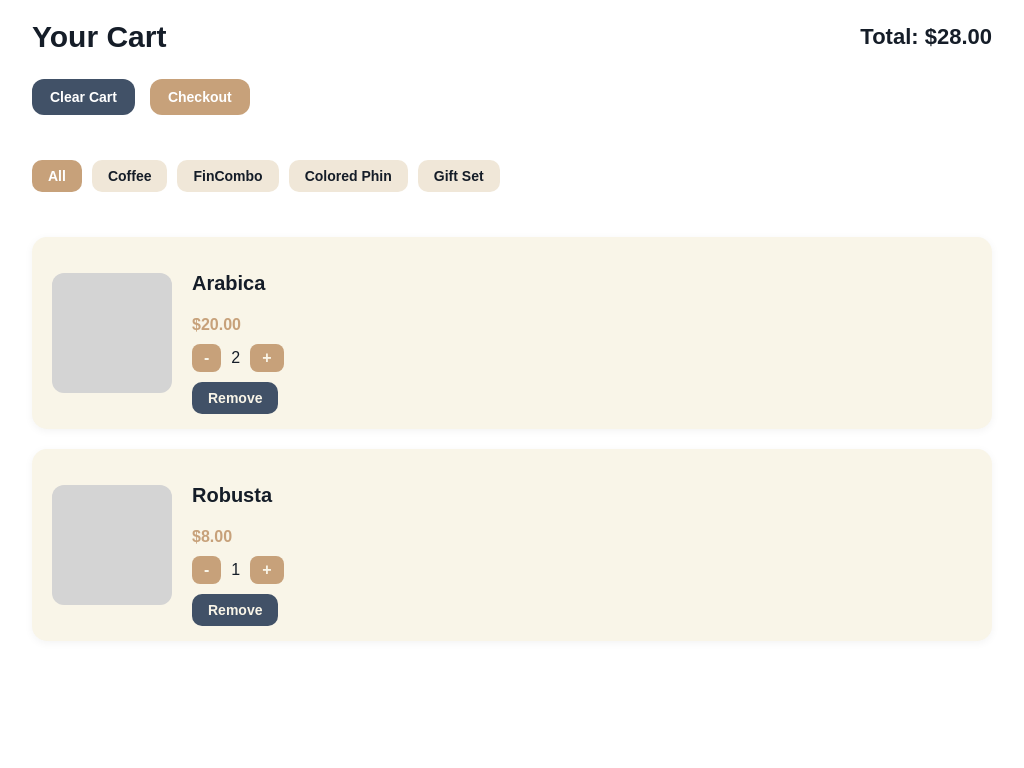
Test case: CartPage component › can filter items by category
What coordinates should you click on to do the following:
click the button "Coffee"
I would click on:
 (130, 176)
Its box is [92, 160, 168, 192].
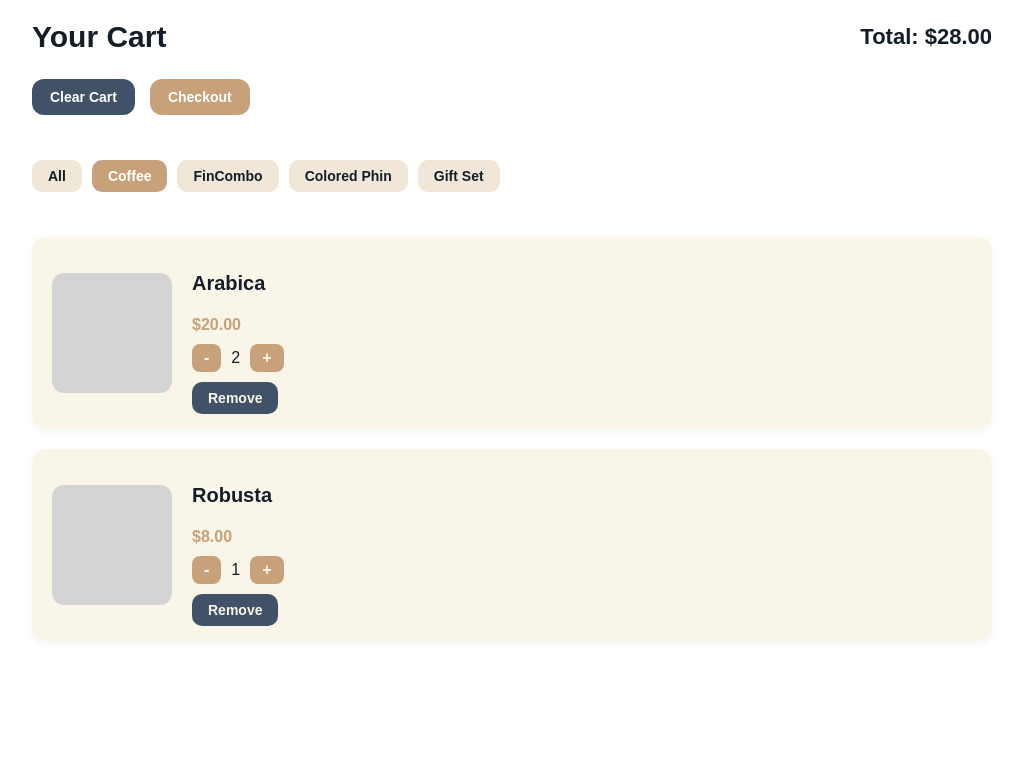
Expected: the text "Arabica" is shown, [192, 272, 265, 294]
What coordinates should you click on to do the following:
click the button "Gift Set"
I would click on:
 (459, 176)
Its box is [418, 160, 500, 192].
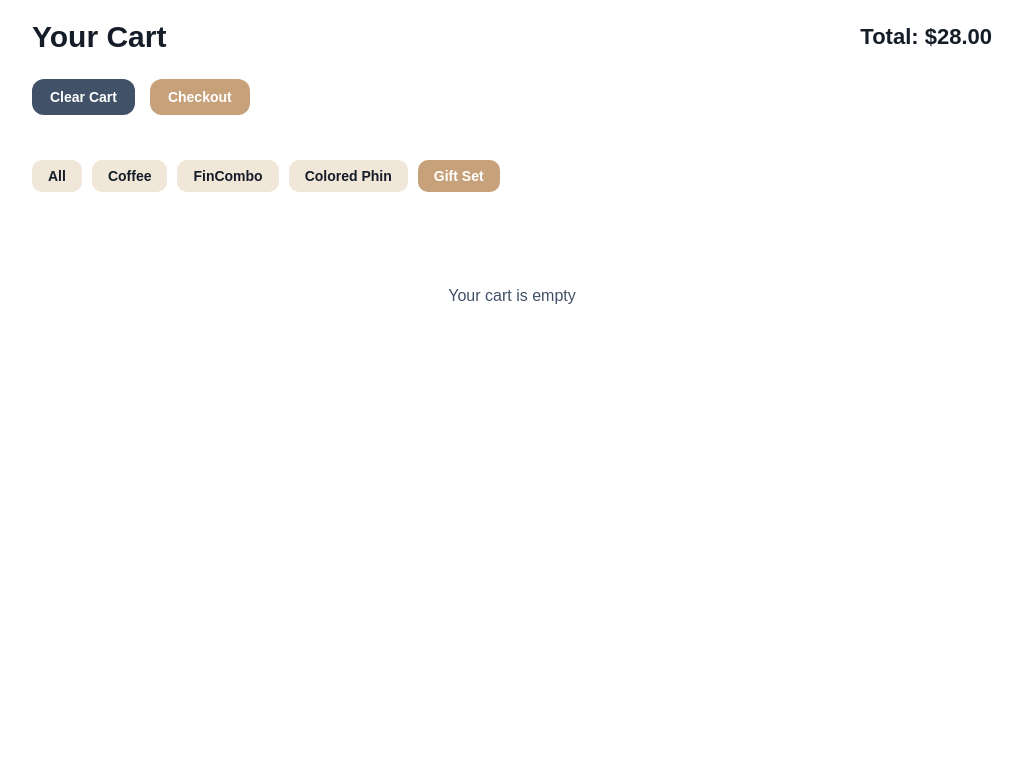
Expected: the text "Arabica" is gone
